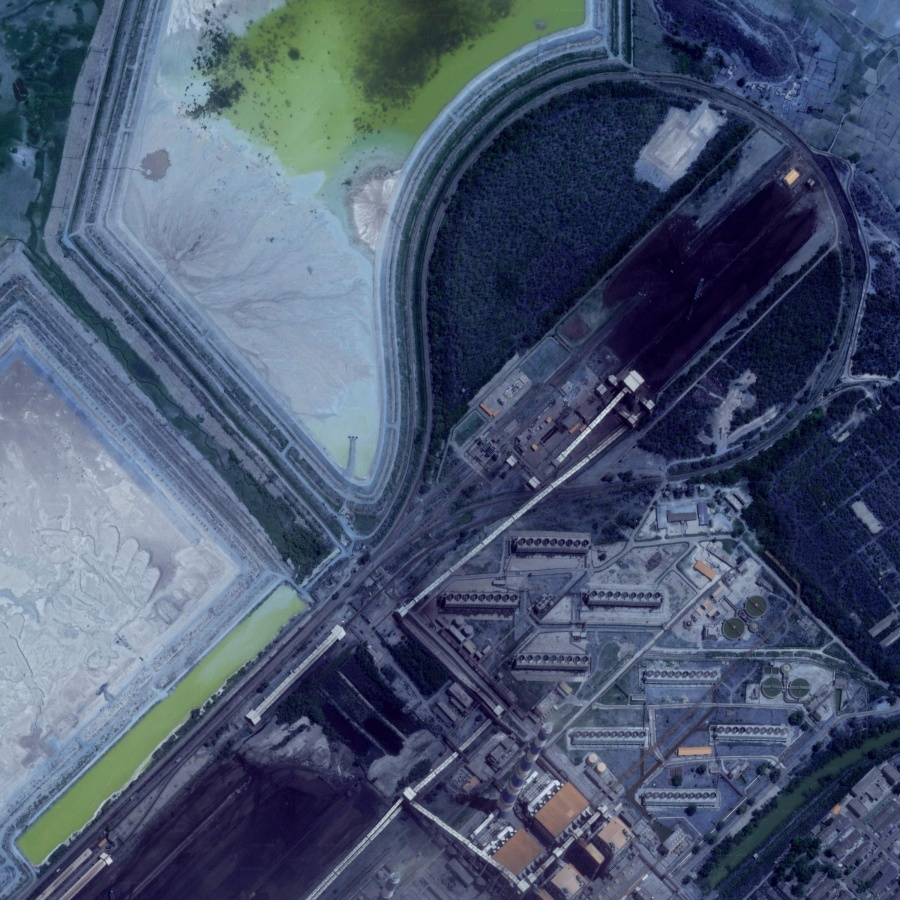PowerPlant: (556, 149, 835, 430)
